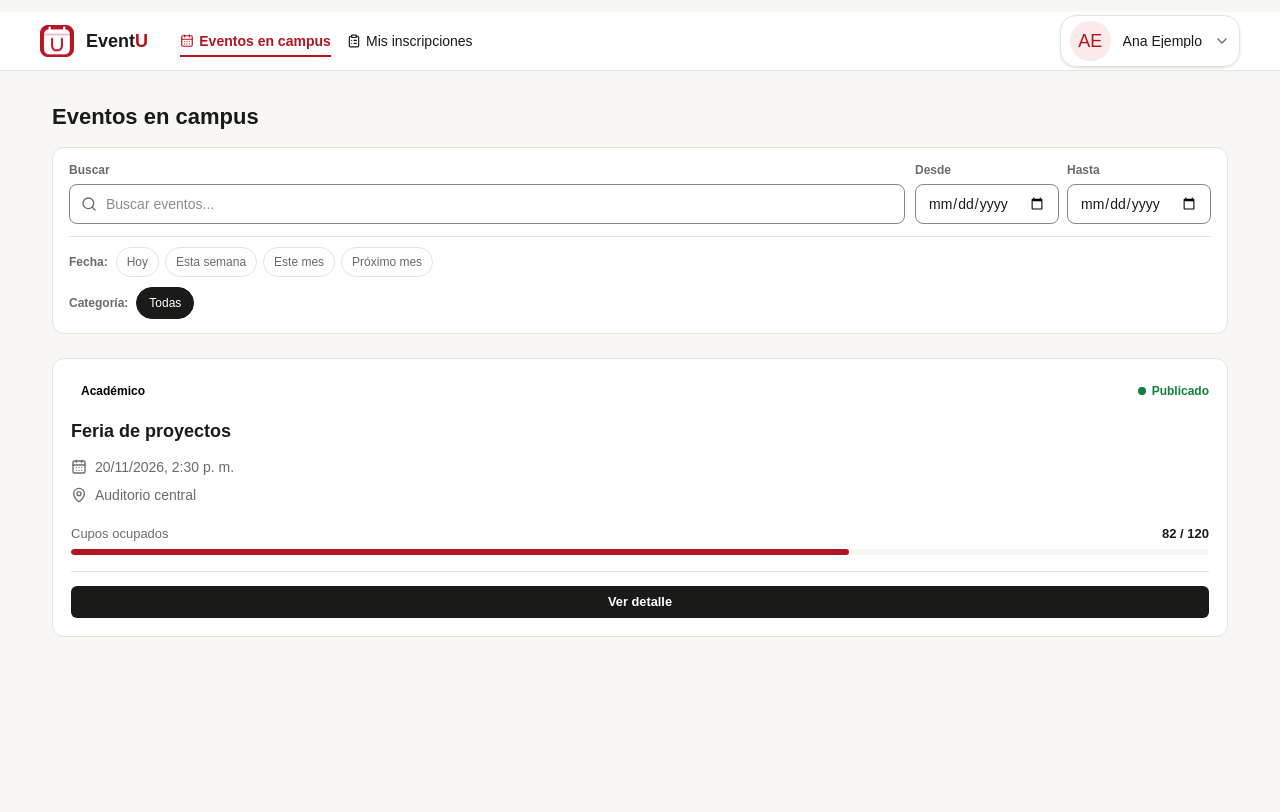
Test case: AppRoutes › navega desde el catálogo al detalle del evento consultado por id
The width and height of the screenshot is (1280, 812).
Click the link with aria-label "Ver detalle de Feria de proyectos": (640, 602) x1=71 y1=586 x2=1209 y2=618
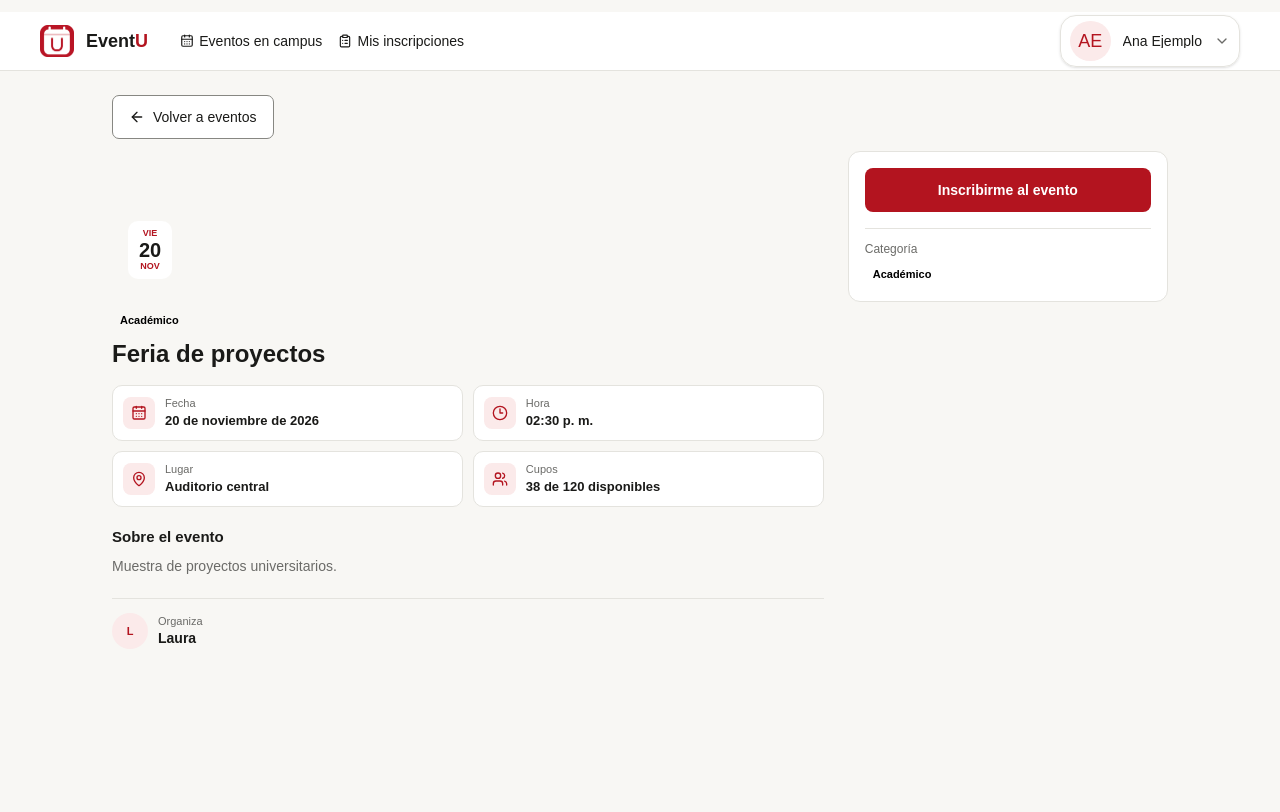
Expected: the heading "Feria de proyectos" is shown, x1=112 y1=340 x2=325 y2=367
Expected: the text "Muestra de proyectos universitarios." is shown, x1=112 y1=558 x2=337 y2=574
